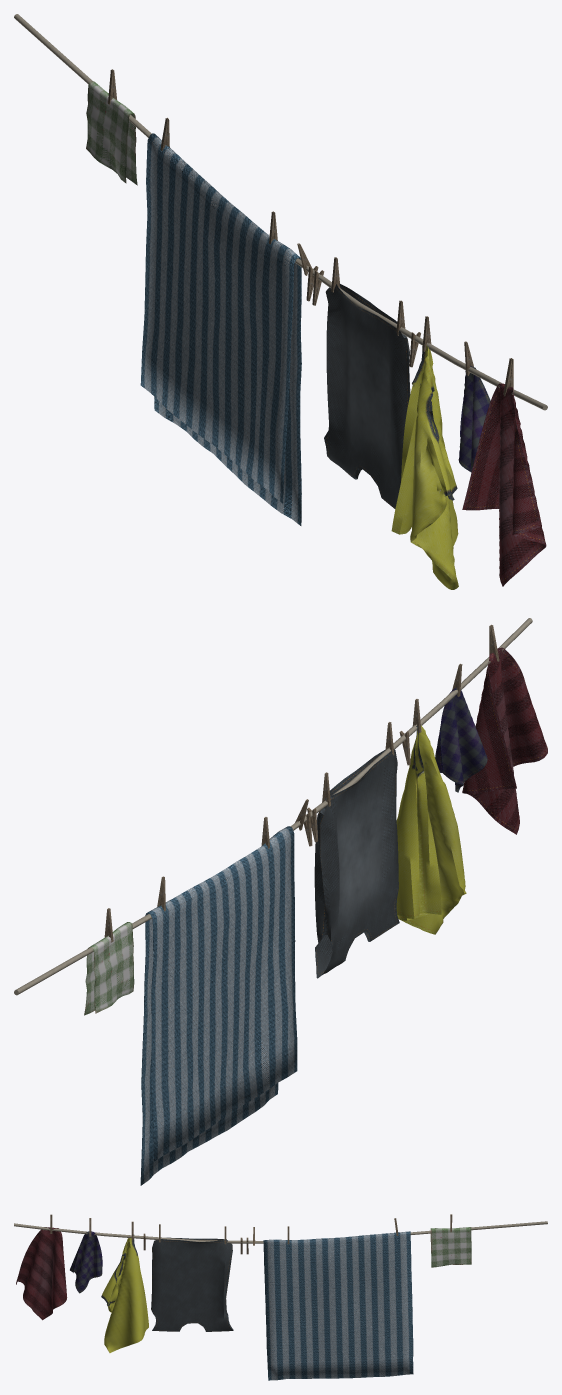
File: SM_ClothesLine_01.fbx
3 views of the same model, one above another, from view 1: azimuth 30°, elevation 25°; view 2: azimuth 150°, elevation 25°; view 3: azimuth 270°, elevation 25° (orthographic). The views are drawn at different scales.
Parts seen in each view (by area): view 1: SM_ClothesLine_01_LOD0; view 2: SM_ClothesLine_01_LOD0; view 3: SM_ClothesLine_01_LOD0.
Part boxes in pixels (bbox=[...]): SM_ClothesLine_01_LOD0: bbox=[14, 14, 547, 589]; SM_ClothesLine_01_LOD0: bbox=[14, 618, 547, 1185]; SM_ClothesLine_01_LOD0: bbox=[14, 1214, 547, 1380].
Size of the model in its own units: 19 by 250 by 84.91.
Materials: 1 (1 with a texture image).
